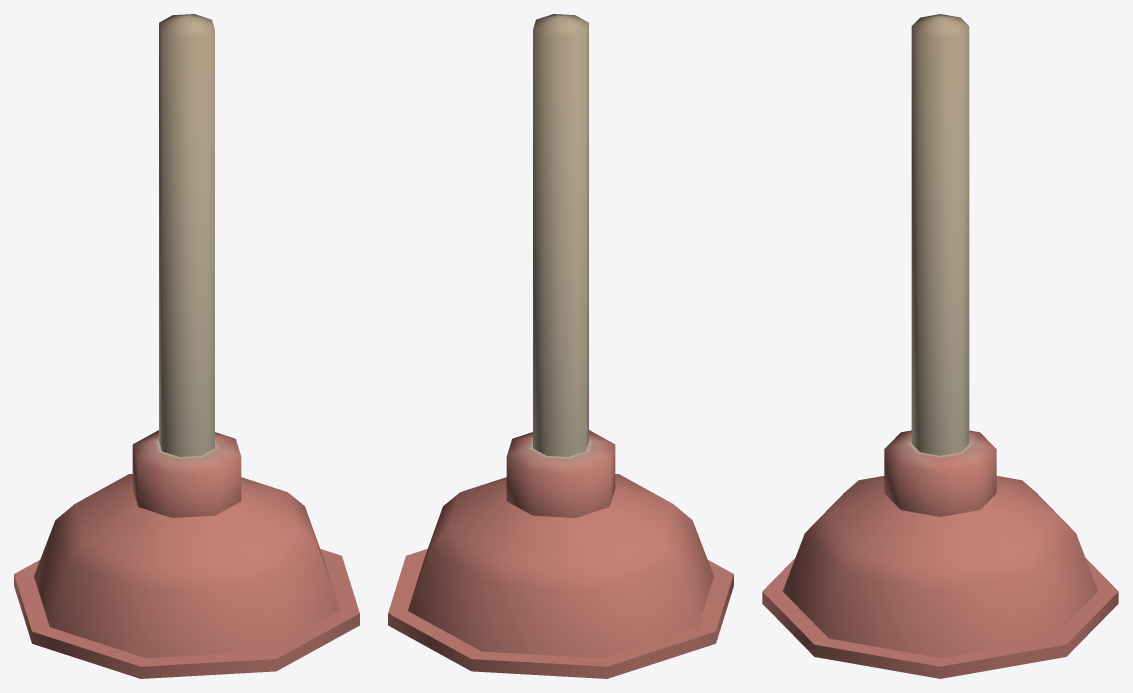
The model's file is item_plunger.glb.
The picture shows the model from 3 angles, left to right: view 1: azimuth 30°, elevation 25°; view 2: azimuth 150°, elevation 25°; view 3: azimuth 270°, elevation 25°; orthographic projection.
Parts seen in each view (by area): view 1: Plunger; view 2: Plunger; view 3: Plunger.
Boxes of the visible parts, <box> form: Plunger: <box>14,14,359,678</box>; Plunger: <box>388,14,733,678</box>; Plunger: <box>762,14,1118,678</box>.
Size of the model in its own units: 0.2763 by 0.5018 by 0.2763.
